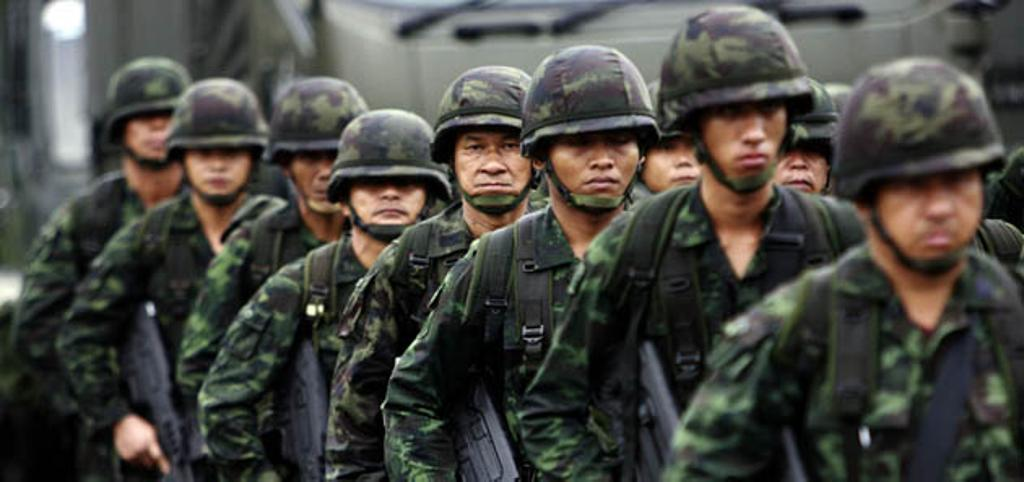face: (877, 111, 985, 265), (703, 47, 787, 183), (555, 87, 643, 207), (451, 97, 541, 207), (757, 95, 829, 207), (345, 141, 425, 233), (641, 103, 715, 199), (291, 119, 359, 215), (123, 77, 193, 163), (187, 123, 255, 197)
